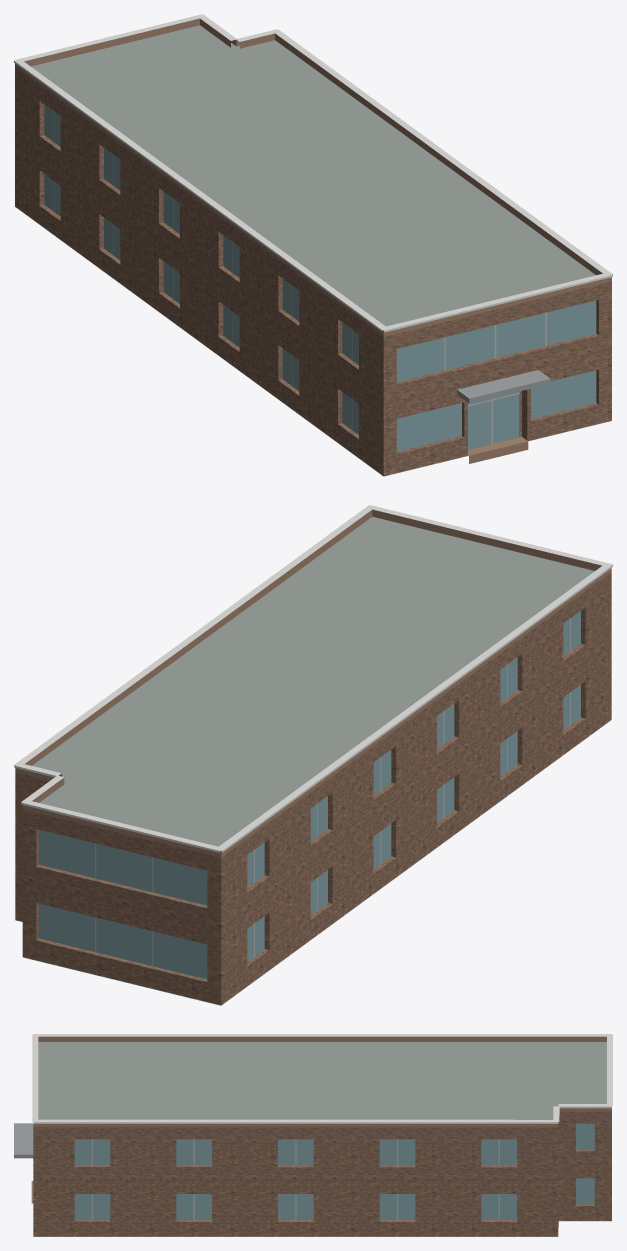
3 renders of one model, top to bottom at view 1: azimuth 30°, elevation 25°; view 2: azimuth 150°, elevation 25°; view 3: azimuth 270°, elevation 25°, orthographic. The views are drawn at different scales.
Visible parts, largest first — view 1: osm761589243__roof, osm761589243__wall, osm761589243__glass, osm761589243__trim, osm761589243__parapet, osm761589243__canopy, osm761589243__frame, osm761589243__entranceThreshold_0; view 2: osm761589243__roof, osm761589243__wall, osm761589243__glass, osm761589243__trim, osm761589243__parapet, osm761589243__frame; view 3: osm761589243__wall, osm761589243__roof, osm761589243__glass, osm761589243__parapet, osm761589243__trim, osm761589243__canopy, osm761589243__frame.
Part boxes in pixels (bbox=[...]): osm761589243__roof: bbox=[15, 25, 610, 476]; osm761589243__wall: bbox=[15, 67, 611, 476]; osm761589243__glass: bbox=[44, 104, 596, 451]; osm761589243__trim: bbox=[14, 14, 612, 332]; osm761589243__parapet: bbox=[15, 18, 611, 336]; osm761589243__canopy: bbox=[457, 370, 550, 403]; osm761589243__frame: bbox=[53, 111, 546, 443]; osm761589243__entranceThreshold_0: bbox=[468, 437, 528, 463]; osm761589243__roof: bbox=[15, 516, 611, 1005]; osm761589243__wall: bbox=[15, 572, 611, 1005]; osm761589243__glass: bbox=[39, 611, 580, 979]; osm761589243__trim: bbox=[14, 505, 612, 852]; osm761589243__parapet: bbox=[15, 509, 611, 857]; osm761589243__frame: bbox=[95, 618, 570, 966]; osm761589243__wall: bbox=[33, 1111, 611, 1236]; osm761589243__roof: bbox=[33, 1042, 611, 1236]; osm761589243__glass: bbox=[74, 1123, 594, 1219]; osm761589243__parapet: bbox=[33, 1036, 611, 1127]; osm761589243__trim: bbox=[32, 1034, 612, 1123]; osm761589243__canopy: bbox=[14, 1123, 33, 1158]; osm761589243__frame: bbox=[91, 1139, 499, 1220].
Bounding box in the file's own units: 12.47 × 7.95 × 35.74.
9 materials, 1 textured.
